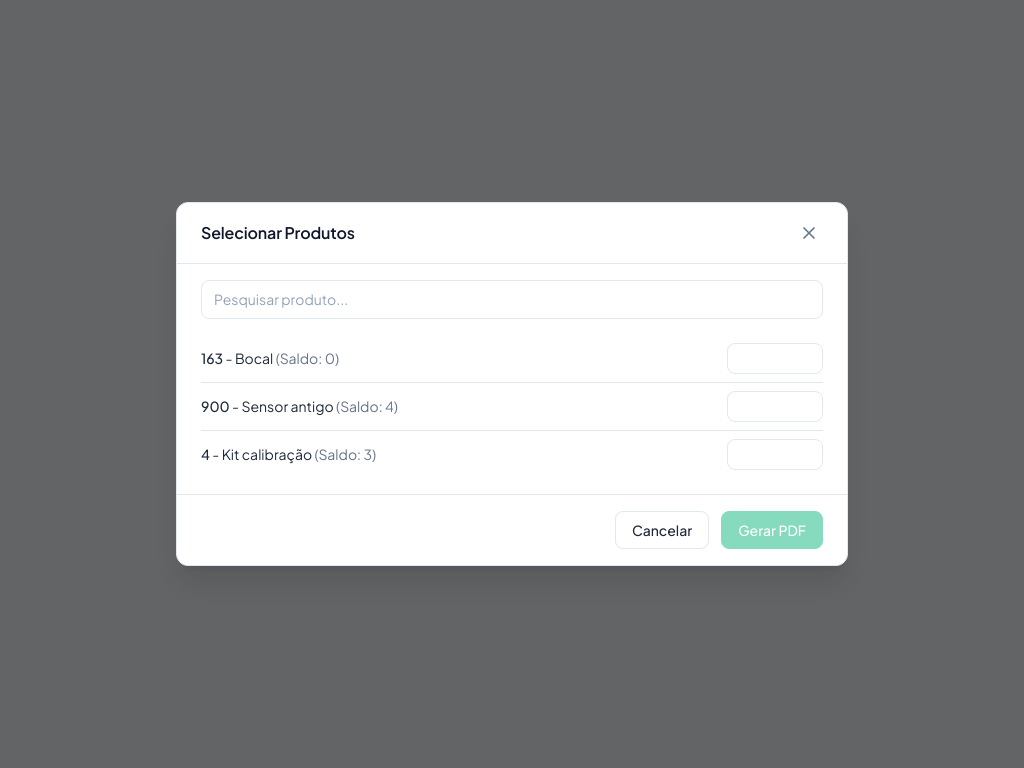
Test: gerar PDF da solicitacao de compras › habilita com uma quantidade, e volta a desabilitar se ela vira zero
Type "3" into the number field named "Quantidade de Sensor antigo" at (775, 406), box 727,391 -> 823,422
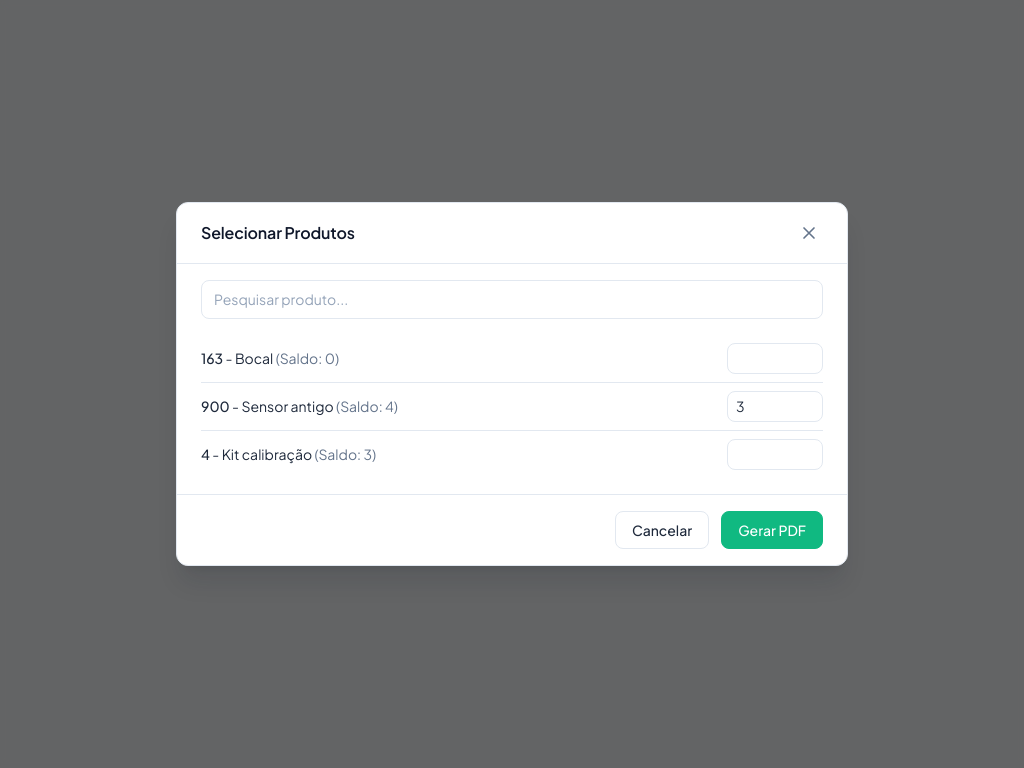
Expected: the button "Gerar PDF" is enabled, 721,511 -> 823,549
Replace the text in the number field named "Quantidade de Sensor antigo" with "0" at (775, 406), box 727,391 -> 823,422
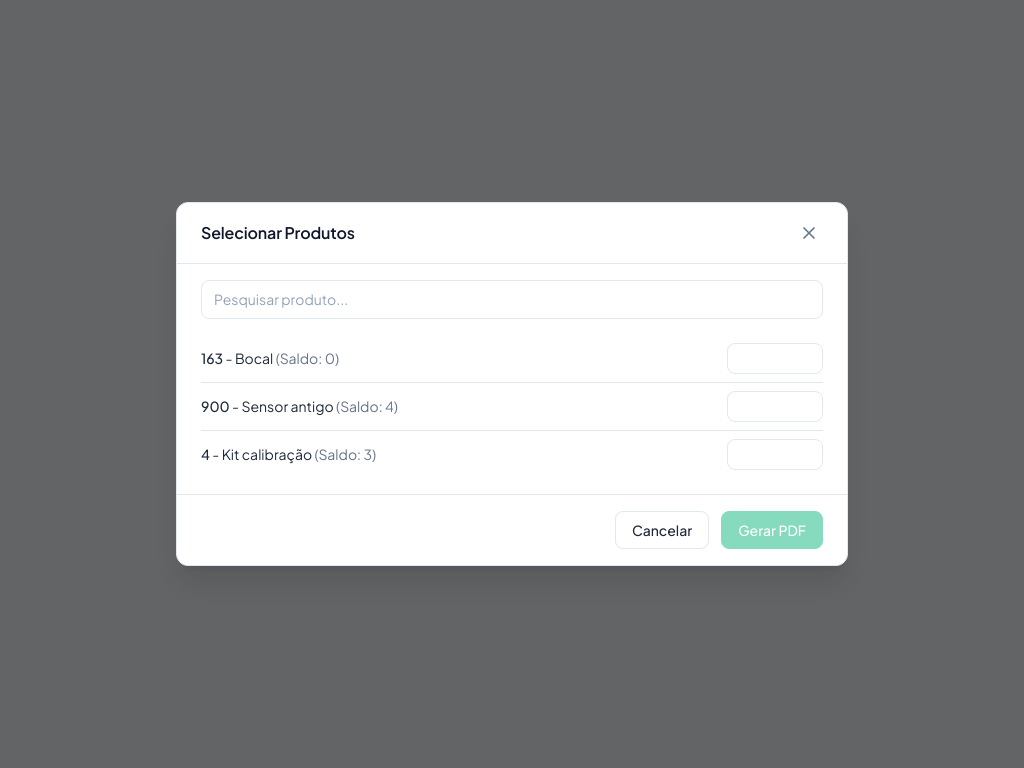
Expected: the button "Gerar PDF" is disabled, 721,511 -> 823,549
